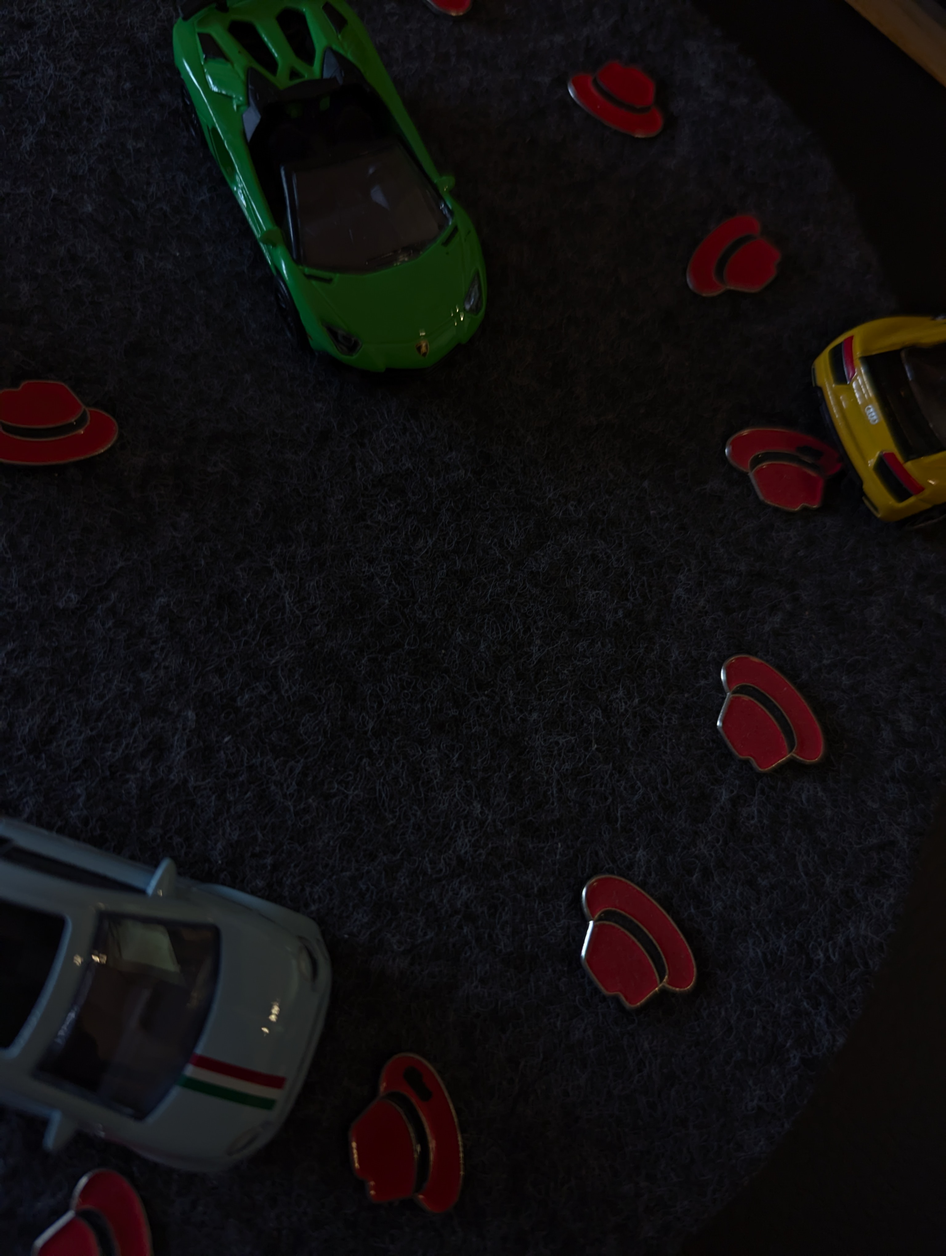Car: (117, 0, 534, 388), (0, 828, 403, 1193)
Red-Hat: (336, 1039, 480, 1230), (557, 854, 710, 1028), (701, 641, 834, 789), (706, 408, 861, 519), (676, 200, 807, 313), (0, 371, 144, 463), (560, 49, 689, 148)
Scratch: (400, 1053, 442, 1108), (786, 429, 830, 476)
